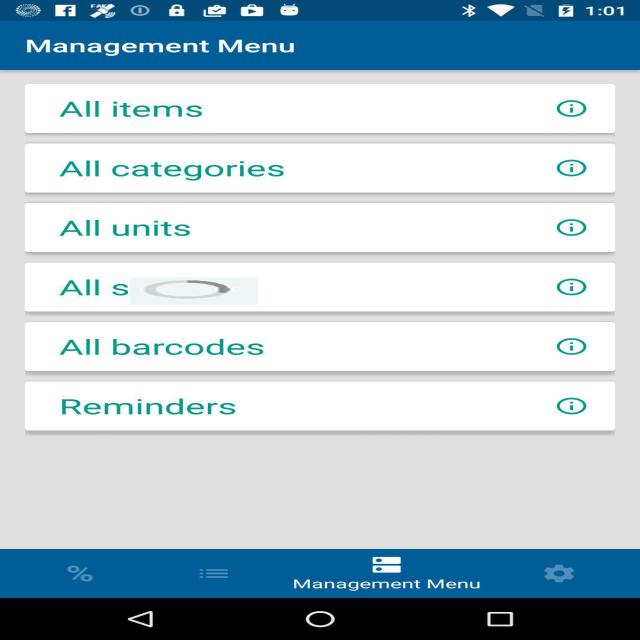misdirection: (130, 278, 258, 304)
